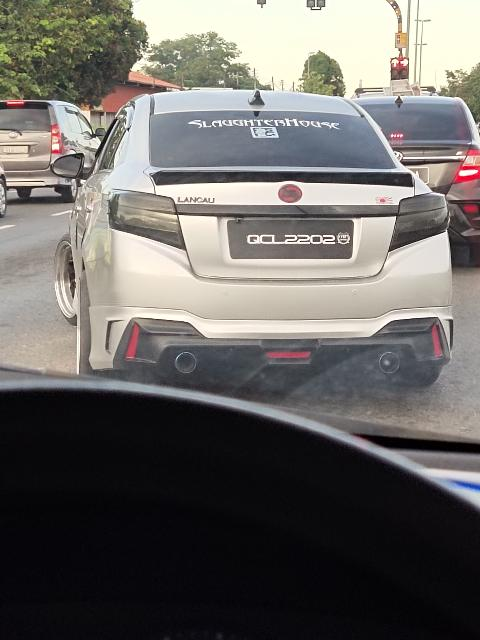License_Plate: (230, 221, 354, 262), (1, 145, 31, 155)
car: (57, 82, 480, 405)
